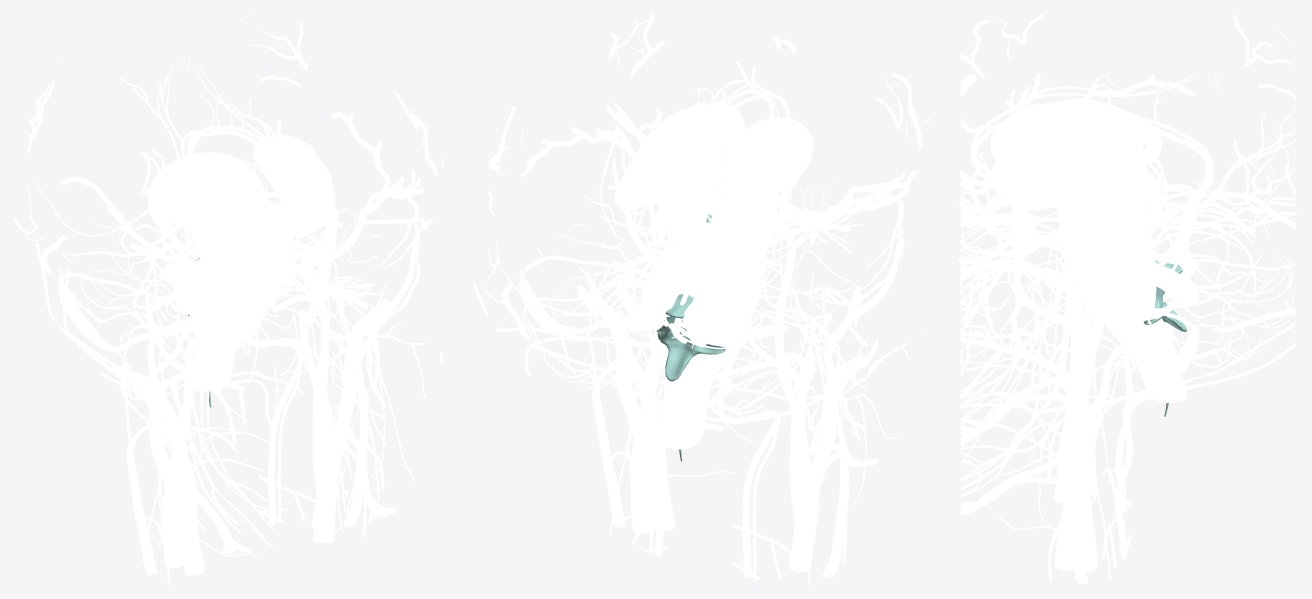
Rendered from brainstem_full.glb.
3 views of the same model, side by side, from view 1: azimuth 30°, elevation 25°; view 2: azimuth 150°, elevation 25°; view 3: azimuth 270°, elevation 25° (orthographic). The views are drawn at different scales.
Parts seen in each view (by area): view 1: Lentiform nucleus.r, Caudate nucleus.l, Caudate nucleus.r, Internal jugular vein.l.001, Internal jugular vein.r.001, Pons.r, Internal carotid artery.r.001, External carotid artery.r.001, Vertebral artery.l.001, Internal carotid artery.l.001, Pericallosal artery.r.001, Base of peduncle.r (+32 smaller); view 2: Lentiform nucleus.r, Caudate nucleus.l, Caudate nucleus.r, Internal carotid artery.r.001, Lentiform nucleus.l, Pons.r, Medulla oblongata.r, Internal jugular vein.l.001, Posterior cerebral artery.r.001, Vertebral artery.r.001, Posterior inferior cerebellar artery.l.001, Fourth ventricle (+37 smaller); view 3: Lentiform nucleus.l, Caudate nucleus.r, Pons.l, Caudate nucleus.l, Pericallosal artery.l.001, Posterior cerebral artery.l.001, Internal carotid artery.l.001, Internal jugular vein.l.001, Pericallosal artery.r.001, Medulla oblongata.l, Superior cerebellar artery.l.001, External carotid artery.l.001 (+46 smaller).
Boxes of the visible parts, x1=… form: Lentiform nucleus.r: x1=152, y1=155, x2=248, y2=246; Caudate nucleus.l: x1=253, y1=136, x2=343, y2=238; Caudate nucleus.r: x1=147, y1=152, x2=270, y2=263; Internal jugular vein.l.001: x1=306, y1=296, x2=335, y2=542; Internal jugular vein.r.001: x1=131, y1=333, x2=205, y2=575; Pons.r: x1=172, y1=261, x2=255, y2=323; Internal carotid artery.r.001: x1=162, y1=284, x2=257, y2=567; External carotid artery.r.001: x1=147, y1=391, x2=182, y2=555; Vertebral artery.l.001: x1=245, y1=314, x2=303, y2=525; Internal carotid artery.l.001: x1=299, y1=274, x2=333, y2=528; Pericallosal artery.r.001: x1=178, y1=60, x2=297, y2=246; Base of peduncle.r: x1=190, y1=231, x2=251, y2=268; Lentiform nucleus.r: x1=747, y1=124, x2=813, y2=232; Caudate nucleus.l: x1=614, y1=101, x2=745, y2=212; Caudate nucleus.r: x1=727, y1=118, x2=822, y2=244; Internal carotid artery.r.001: x1=775, y1=225, x2=815, y2=572; Lentiform nucleus.l: x1=619, y1=102, x2=721, y2=205; Pons.r: x1=688, y1=255, x2=764, y2=346; Medulla oblongata.r: x1=670, y1=345, x2=732, y2=449; Internal jugular vein.l.001: x1=597, y1=310, x2=675, y2=531; Posterior cerebral artery.r.001: x1=691, y1=157, x2=857, y2=348; Vertebral artery.r.001: x1=717, y1=344, x2=780, y2=577; Posterior inferior cerebellar artery.l.001: x1=521, y1=295, x2=660, y2=393; Fourth ventricle: x1=656, y1=294, x2=725, y2=381; Lentiform nucleus.l: x1=1005, y1=140, x2=1150, y2=225; Caudate nucleus.r: x1=990, y1=106, x2=1162, y2=166; Pons.l: x1=1063, y1=243, x2=1156, y2=319; Caudate nucleus.l: x1=990, y1=131, x2=1162, y2=249; Pericallosal artery.l.001: x1=971, y1=78, x2=1221, y2=208; Posterior cerebral artery.l.001: x1=1057, y1=157, x2=1275, y2=315; Internal carotid artery.l.001: x1=1012, y1=252, x2=1097, y2=571; Internal jugular vein.l.001: x1=1054, y1=346, x2=1140, y2=570; Pericallosal artery.r.001: x1=971, y1=72, x2=1221, y2=194; Medulla oblongata.l: x1=1105, y1=312, x2=1187, y2=403; Superior cerebellar artery.l.001: x1=1061, y1=210, x2=1269, y2=327; External carotid artery.l.001: x1=1067, y1=395, x2=1085, y2=546.
Bounding box in the file's own units: 0.1173 × 0.181 × 0.1218.
